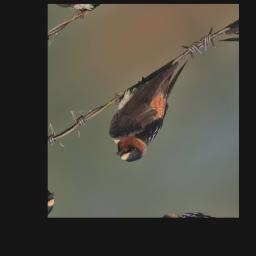Swallow: (94, 50, 213, 171)
